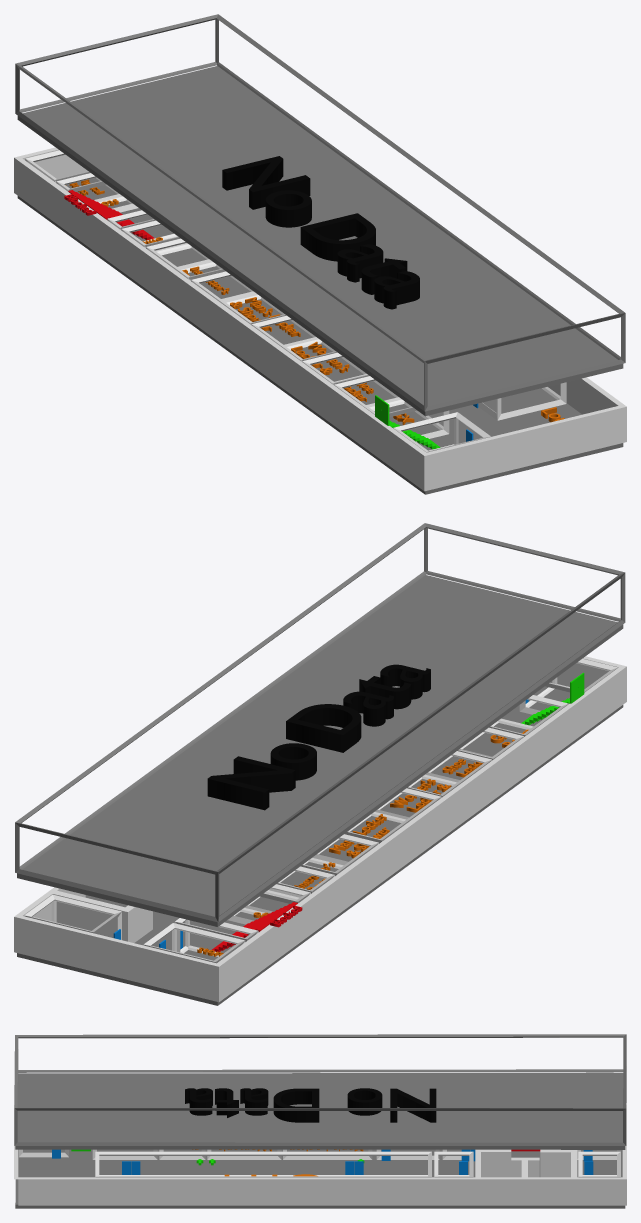
Rendered from BlueDragon_fullModel.glb.
3 views of the same model, one above another, from view 1: azimuth 30°, elevation 25°; view 2: azimuth 150°, elevation 25°; view 3: azimuth 270°, elevation 25° (orthographic). The views are drawn at different scales.
Parts seen in each view (by area): view 1: Floor.001, Wall, NoData, Floor, Text.014, B101.011, B101.012, B101.007, B101.008, B101, B101.009, B101.006 (+3 smaller); view 2: Floor.001, Wall, NoData, Text.014, Floor, B101.002, B101.008, B101.003, B101.009, B101.004, B101.007, B101.011 (+5 smaller); view 3: Floor.001, Wall, Floor, NoData, Text.014, B101, B101.002, B101.001, B101.008, B101.009, B101.011, B101.012 (+2 smaller).
Boxes of the visible parts, x1,y1,x2,y2 form: Floor.001: (17, 66, 623, 416); Wall: (14, 147, 626, 491); NoData: (15, 14, 625, 411); Floor: (17, 178, 623, 494); Text.014: (222, 156, 419, 309); B101.011: (334, 376, 449, 441); B101.012: (393, 412, 490, 452); B101.007: (146, 238, 257, 302); B101.008: (191, 271, 318, 346); B101: (478, 382, 566, 420); B101.009: (251, 315, 367, 382); B101.006: (121, 220, 212, 269); Floor.001: (17, 575, 623, 926); Wall: (14, 656, 626, 1002); NoData: (15, 523, 625, 922); Text.014: (207, 664, 430, 810); Floor: (17, 686, 623, 1005); B101.002: (24, 894, 121, 939); B101.008: (312, 788, 441, 865); B101.003: (143, 923, 245, 963); B101.009: (375, 751, 492, 819); B101.004: (174, 918, 258, 960); B101.007: (269, 834, 378, 897); B101.011: (459, 695, 568, 757); Floor.001: (15, 1072, 625, 1149); Wall: (14, 1104, 626, 1205); Floor: (15, 1149, 625, 1208); NoData: (14, 1034, 626, 1145); Text.014: (185, 1088, 436, 1122); B101: (95, 1151, 431, 1177); B101.002: (578, 1151, 620, 1177); B101.001: (434, 1151, 473, 1177); B101.008: (283, 1149, 372, 1159); B101.009: (207, 1149, 281, 1159); B101.011: (92, 1149, 157, 1159); B101.012: (19, 1149, 68, 1157).
Bounding box in the file's own units: 2.38 × 1.46 × 8.04.
